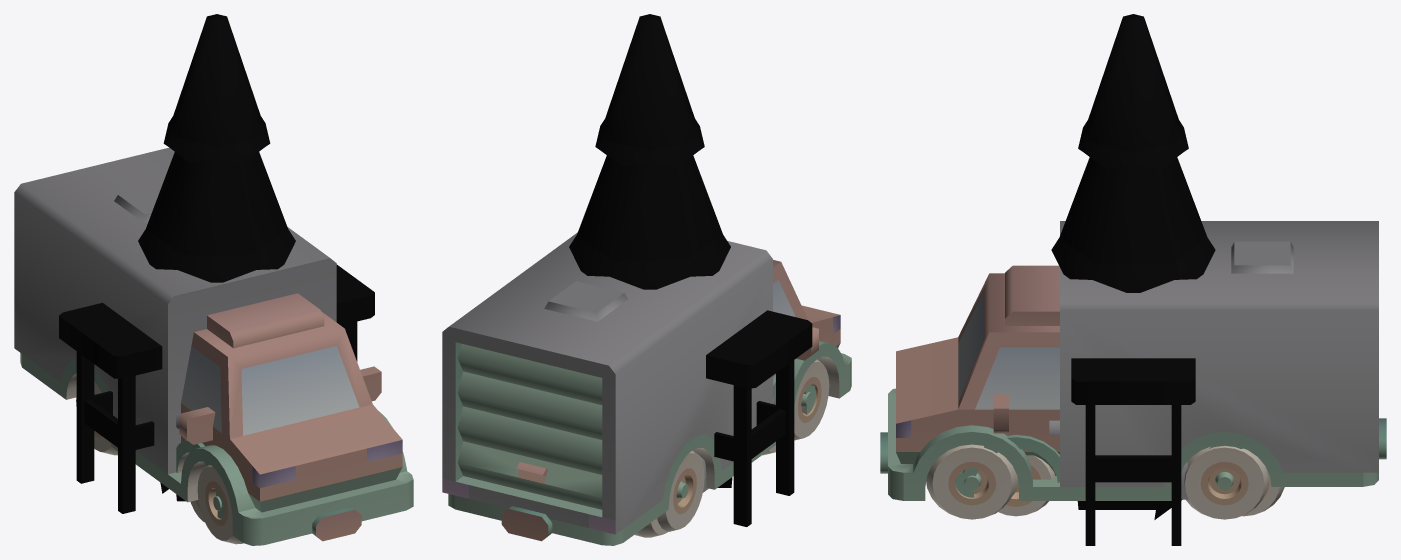
File: dressing-kit.glb
3 views of the same model, side by side, from view 1: azimuth 30°, elevation 25°; view 2: azimuth 150°, elevation 25°; view 3: azimuth 270°, elevation 25° (orthographic). The views are drawn at different scales.
Parts seen in each view (by area): view 1: van, tree, stall, hatchback; view 2: van, tree, stall, hatchback; view 3: van, tree, stall, hatchback, grass.
Part boxes in pixels (x1=…): van: x1=14, y1=147, x2=413, y2=545; tree: x1=138, y1=14, x2=295, y2=282; stall: x1=59, y1=264, x2=374, y2=513; hatchback: x1=176, y1=414, x2=224, y2=522; van: x1=442, y1=232, x2=851, y2=545; tree: x1=569, y1=14, x2=730, y2=289; stall: x1=706, y1=310, x2=812, y2=526; hatchback: x1=634, y1=375, x2=815, y2=537; van: x1=880, y1=221, x2=1386, y2=519; tree: x1=1051, y1=14, x2=1215, y2=292; stall: x1=1071, y1=358, x2=1195, y2=545; hatchback: x1=955, y1=420, x2=1284, y2=516; grass: x1=1077, y1=499, x2=1182, y2=519.
Size of the model in its own units: 3.4 by 5.6 by 5.5.
